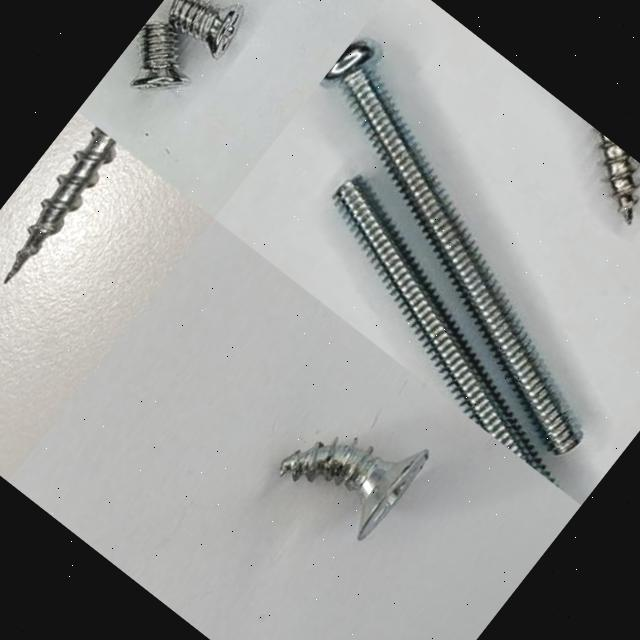Screw: (322, 39, 582, 457), (334, 178, 558, 487), (5, 127, 117, 283), (280, 438, 429, 540), (168, 0, 243, 60), (131, 25, 190, 91), (600, 133, 640, 225)
